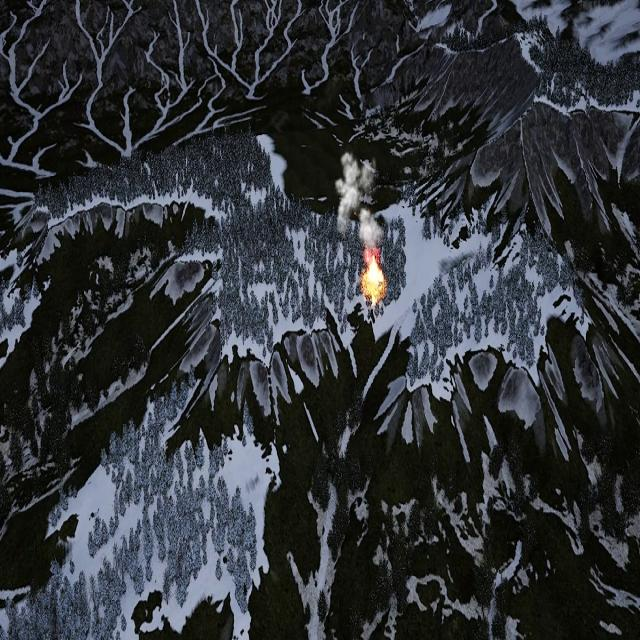fire: (361, 256, 384, 299)
smoke: (335, 150, 382, 248)
